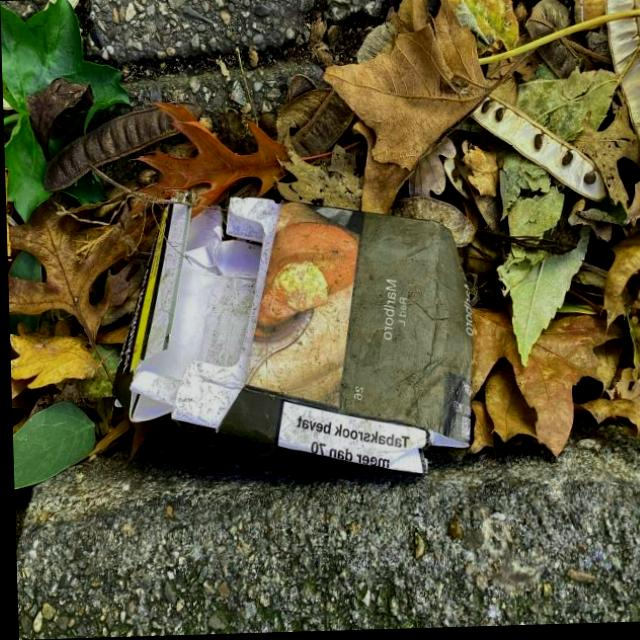Paper: (102, 187, 478, 489)
